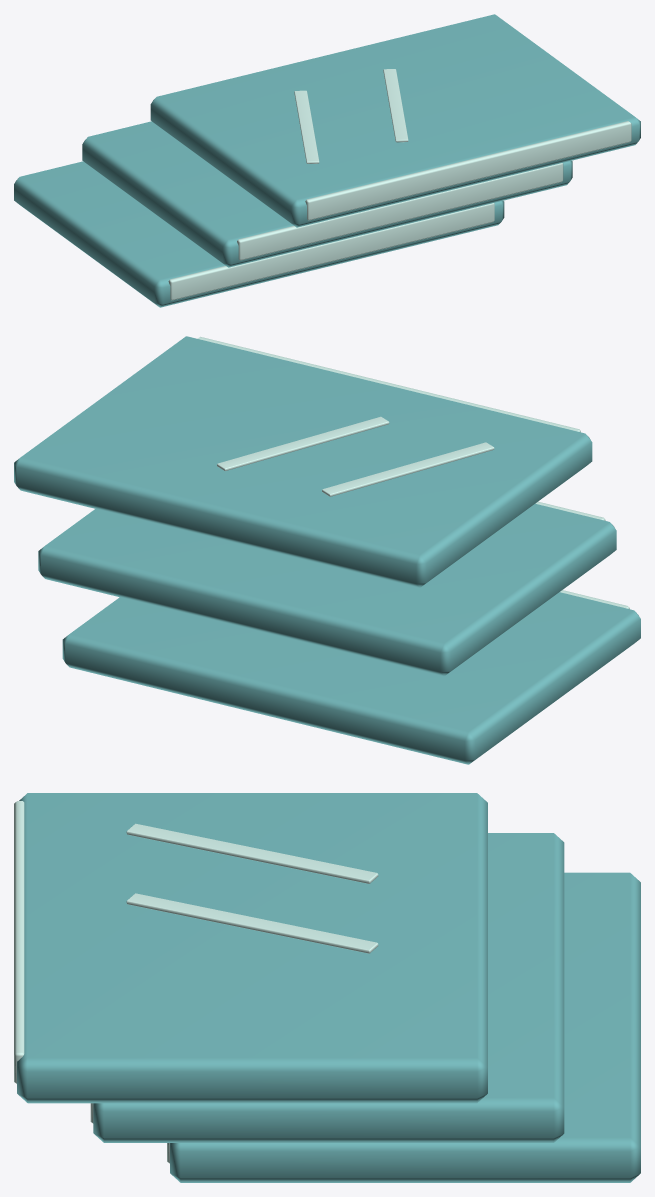
The model's file is glass.glb.
The picture shows the model from 3 angles, top to bottom: view 1: azimuth 30°, elevation 25°; view 2: azimuth 150°, elevation 25°; view 3: azimuth 270°, elevation 25°; orthographic projection. The views are drawn at different scales.
Parts seen in each view (by area): view 1: Glass pane.002, Glass pane, Glass pane.001, Polished edge.002, Polished edge.001, Polished edge, Reflected light.001, Reflected light; view 2: Glass pane.002, Glass pane.001, Glass pane, Reflected light, Reflected light.001, Polished edge.002; view 3: Glass pane.002, Glass pane, Glass pane.001, Reflected light, Reflected light.001, Polished edge.002.
Part boxes in pixels (x1,y1,x2,y2): Glass pane.002: (150,14,640,227); Glass pane: (14,161,504,307); Glass pane.001: (82,121,572,267); Polished edge.002: (305,121,631,220); Polished edge.001: (237,163,563,260); Polished edge: (168,203,494,300); Reflected light.001: (383,69,408,142); Reflected light: (294,90,319,163); Glass pane.002: (14,336,592,587); Glass pane.001: (38,503,616,676); Glass pane: (62,592,640,764); Reflected light: (322,442,494,496); Reflected light.001: (217,416,389,471); Polished edge.002: (197,336,580,432); Glass pane.002: (17,793,487,1103); Glass pane: (170,872,640,1182); Glass pane.001: (93,833,564,1142); Reflected light: (126,823,378,883); Reflected light.001: (126,893,378,953); Polished edge.002: (14,801,24,1083).
Size of the model in its own units: 1.38 by 0.3725 by 1.06.
